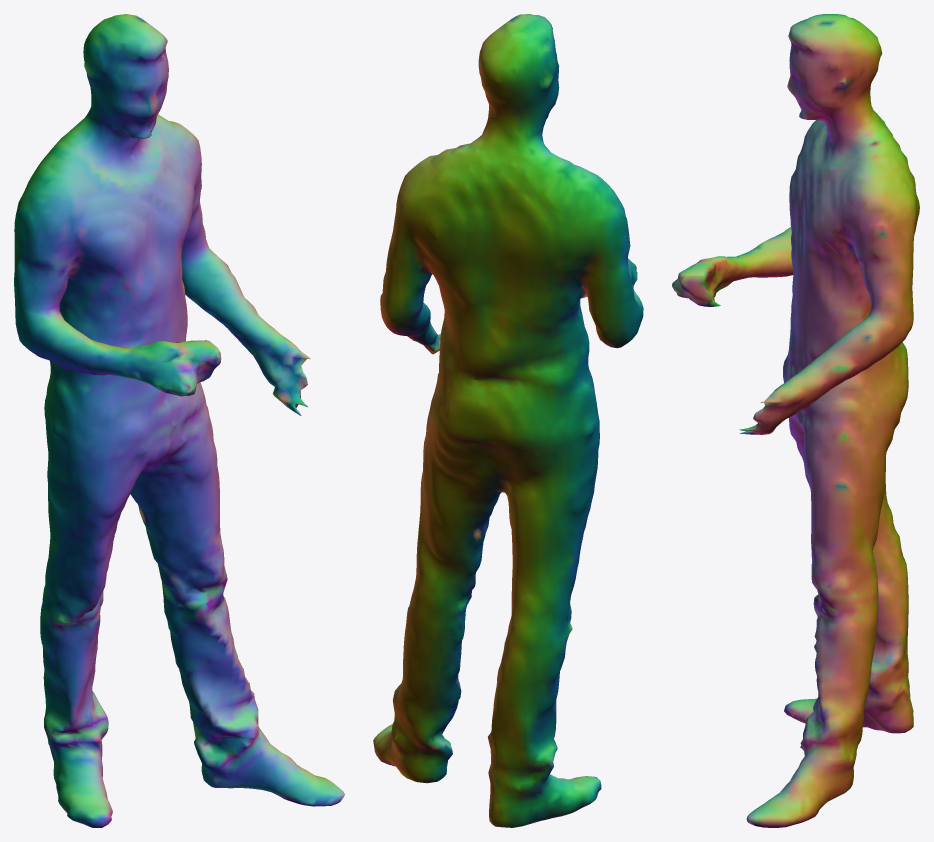
The model's file is pifuhd-sample-clean.glb.
3 renders of one model, left to right at view 1: azimuth 30°, elevation 25°; view 2: azimuth 150°, elevation 25°; view 3: azimuth 270°, elevation 25°, orthographic. The views are drawn at different scales.
Visible parts, largest first — view 1: avatar_merged; view 2: avatar_merged; view 3: avatar_merged.
Boxes of the visible parts, x1,y1,x2,y2 form: avatar_merged: [14, 14, 344, 827]; avatar_merged: [373, 14, 643, 827]; avatar_merged: [672, 14, 919, 827].
Size of the model in its own units: 0.6753 by 1.8 by 0.551.
